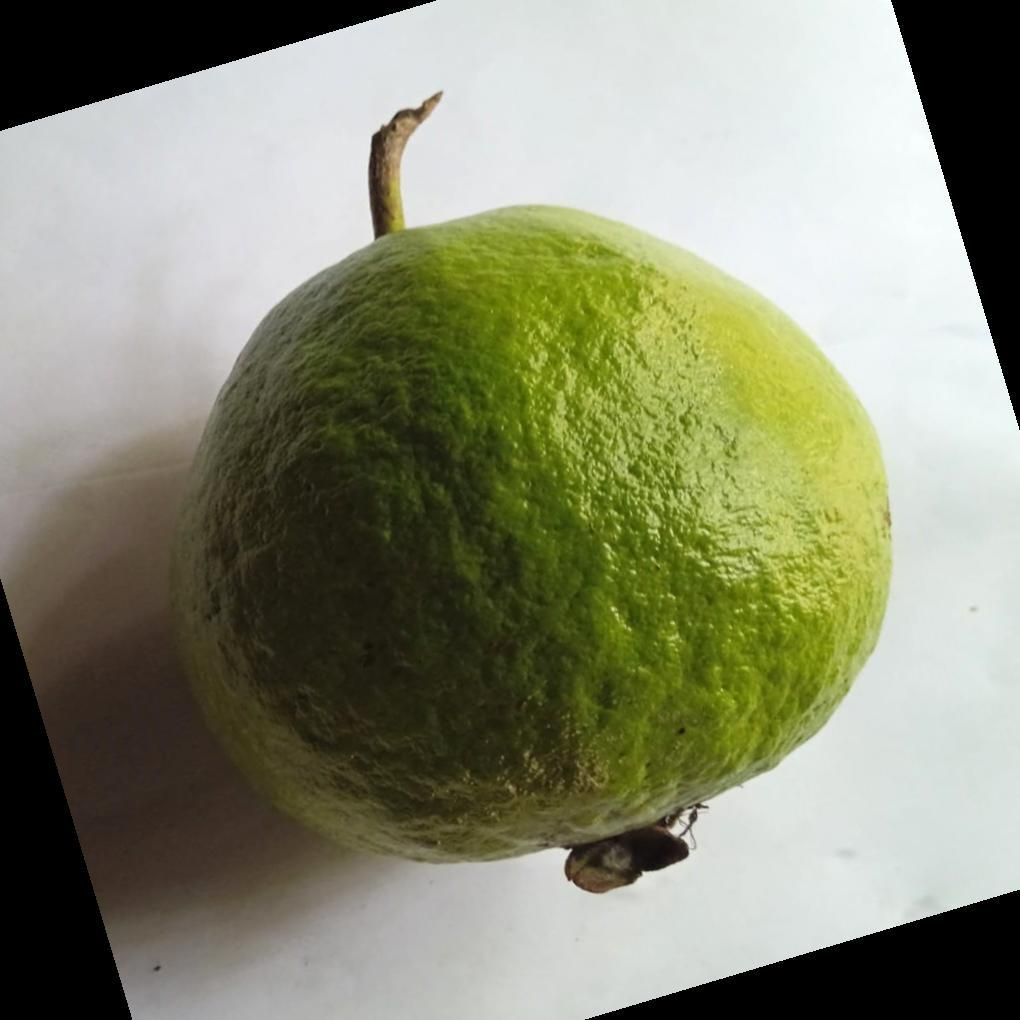FreshGuava: (167, 205, 894, 892)
